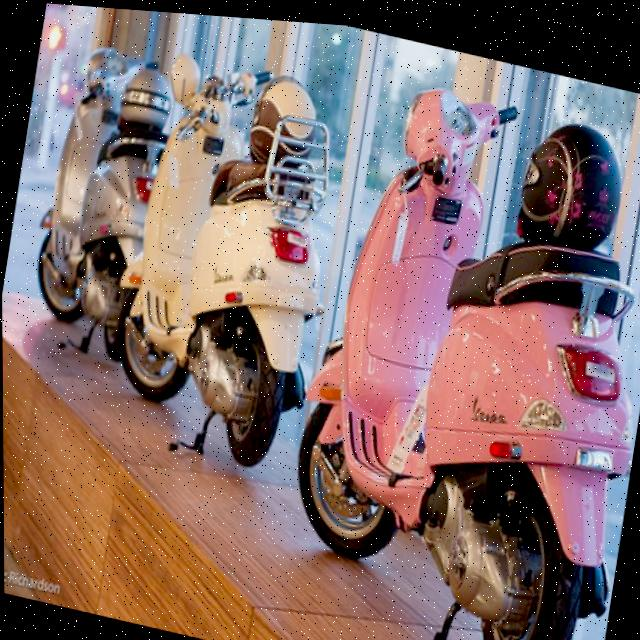motorcycle: (261, 56, 640, 640), (92, 38, 351, 504), (17, 11, 183, 379)
